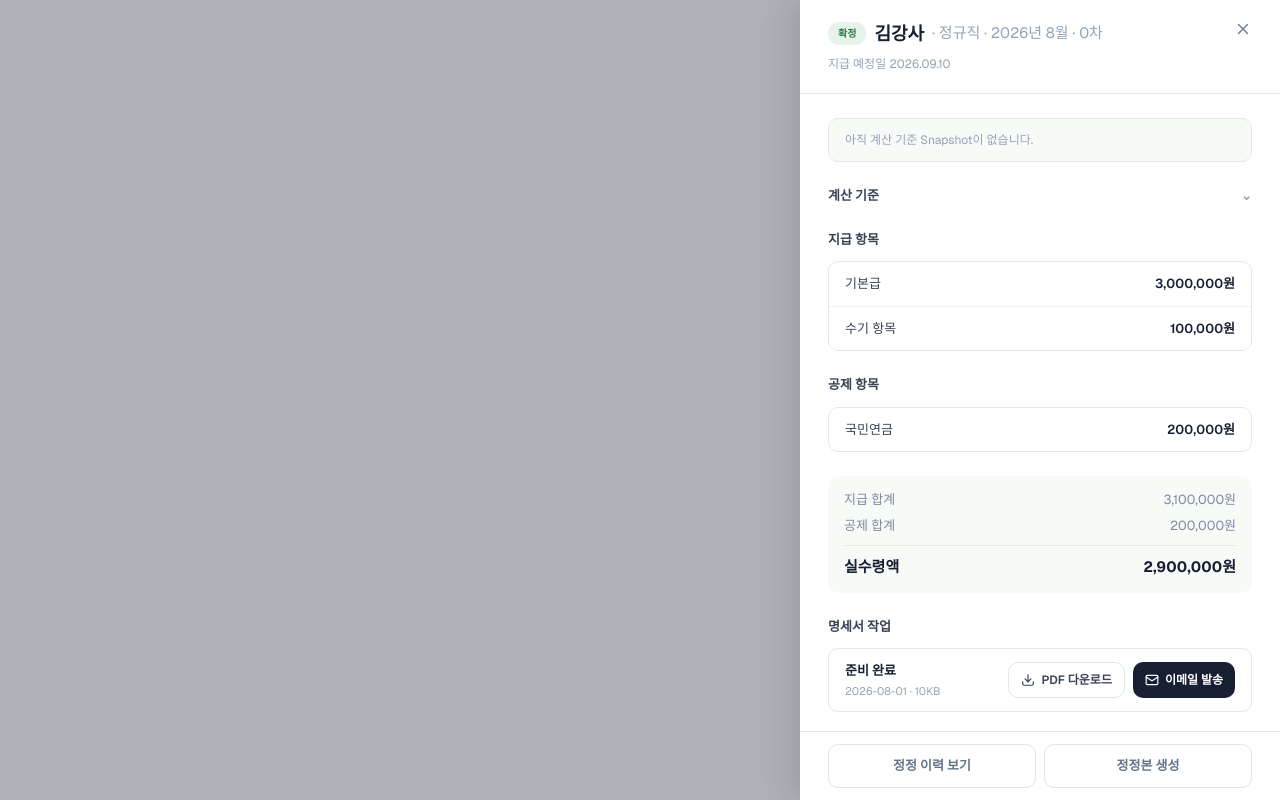
Test: PayrollDetail › 이메일 발송 결과가 있으면 발송 결과 패널을 노출한다
The image size is (1280, 800).
Click the button "이메일 발송".
click(1184, 680)  # box [1133,662,1235,698]
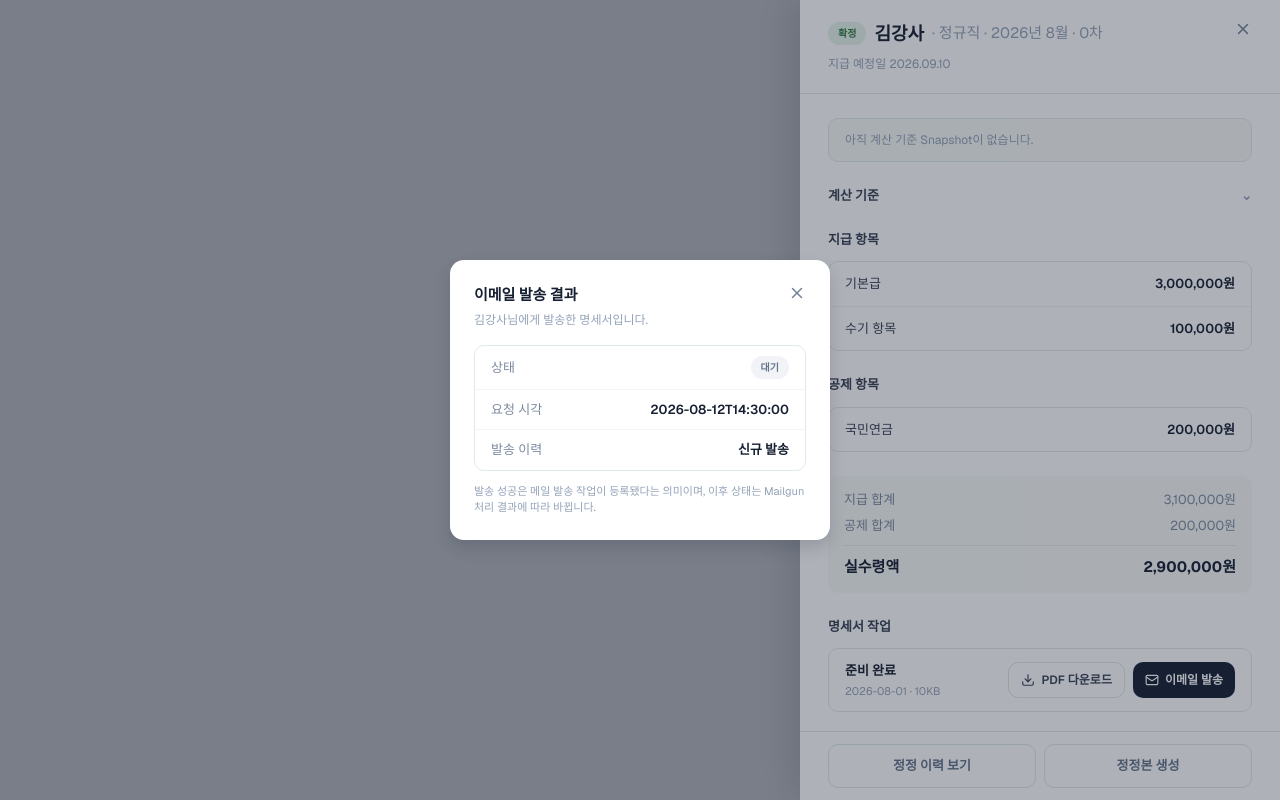
Expected: the heading "이메일 발송 결과" is shown, [474,285,578,304]
Expected: the text "신규 발송" is shown, [738,440,789,460]
